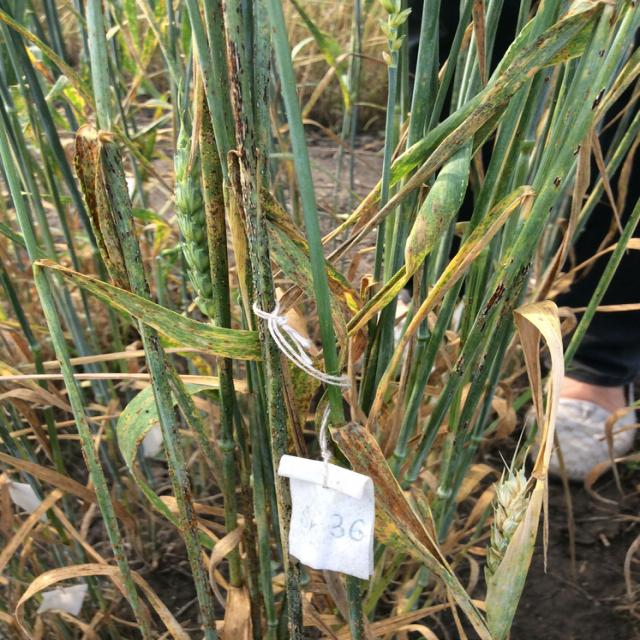wheat-stemrust: (74, 379, 154, 640), (157, 402, 219, 639), (200, 96, 230, 328)
